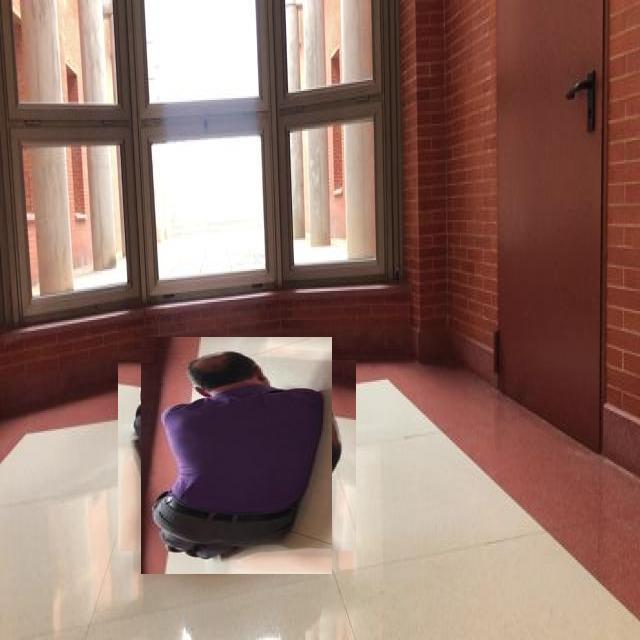Fall: (150, 356, 352, 580)
